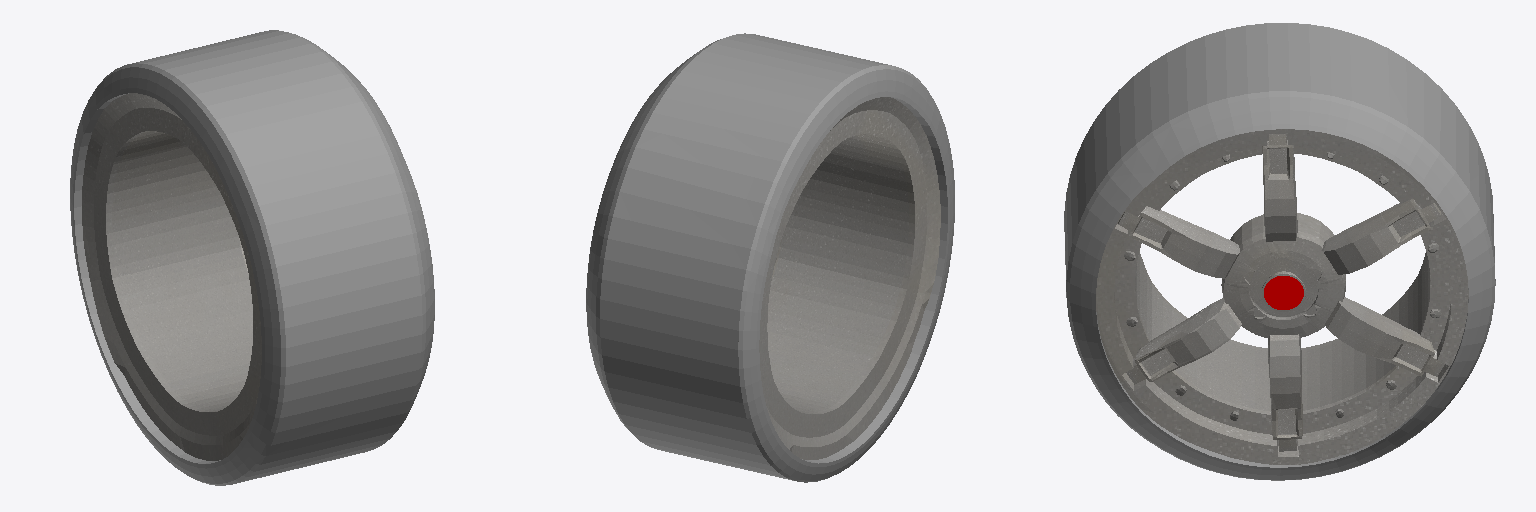
3 renders of one model, left to right at view 1: azimuth 30°, elevation 25°; view 2: azimuth 150°, elevation 25°; view 3: azimuth 270°, elevation 25°, orthographic.
Parts seen in each view (by area): view 1: Wheel.002_Circle.000; view 2: Wheel.002_Circle.000; view 3: Wheel.002_Circle.000.
Boxes of the visible parts, x1=… form: Wheel.002_Circle.000: x1=70, y1=30, x2=434, y2=485; Wheel.002_Circle.000: x1=586, y1=33, x2=954, y2=482; Wheel.002_Circle.000: x1=1064, y1=23, x2=1495, y2=480.
Bounding box in the file's own units: 0.447 × 0.9557 × 0.9555.
3 materials, 1 textured.